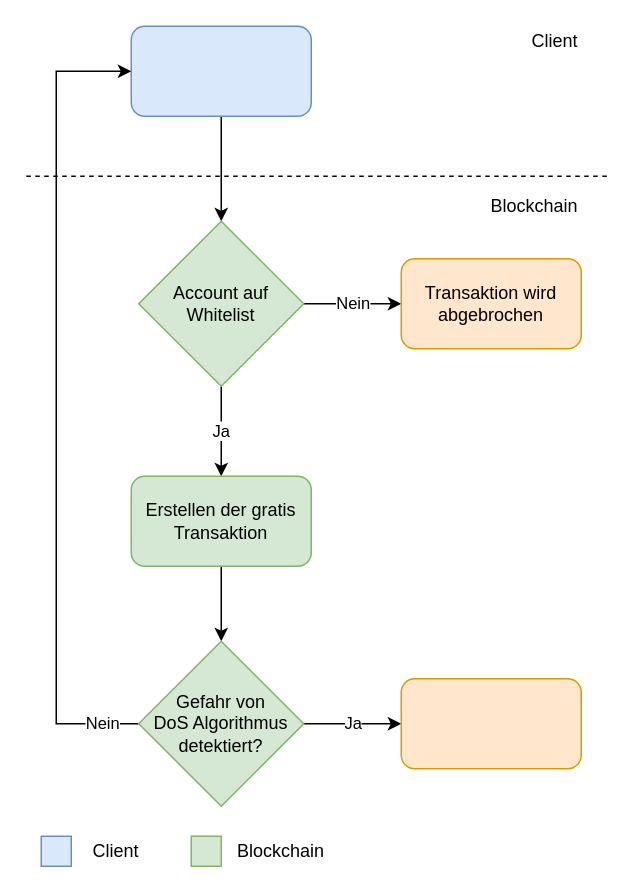
Image size: 639x893. Some labels were removed from this diagram. The centre of each missing label's shape, as x and y in pixels:
"Account wird von Whitelsit entfernt" belongs at point (490, 723).
"Initialisierung einer gratis TX" belongs at point (220, 70).
